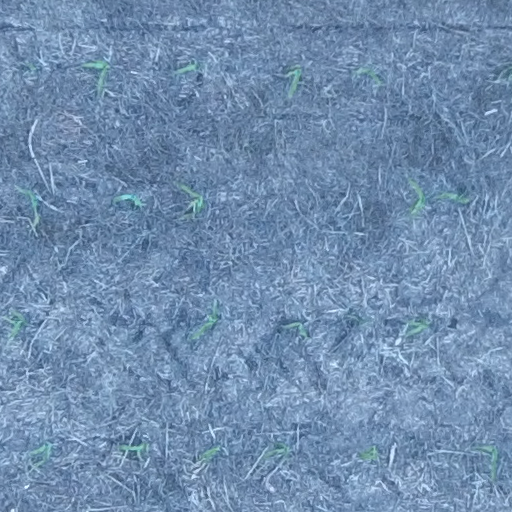planta: (185, 300, 222, 344), (171, 178, 209, 220), (79, 56, 112, 98), (472, 442, 502, 486), (16, 183, 41, 232), (405, 174, 428, 222), (27, 438, 57, 472), (192, 442, 224, 471), (282, 61, 305, 100), (113, 439, 152, 462), (350, 64, 385, 88), (258, 439, 293, 463), (402, 316, 433, 341), (437, 187, 473, 206), (109, 191, 144, 210), (172, 58, 205, 78), (282, 319, 311, 340), (355, 442, 382, 463), (24, 59, 40, 74)
